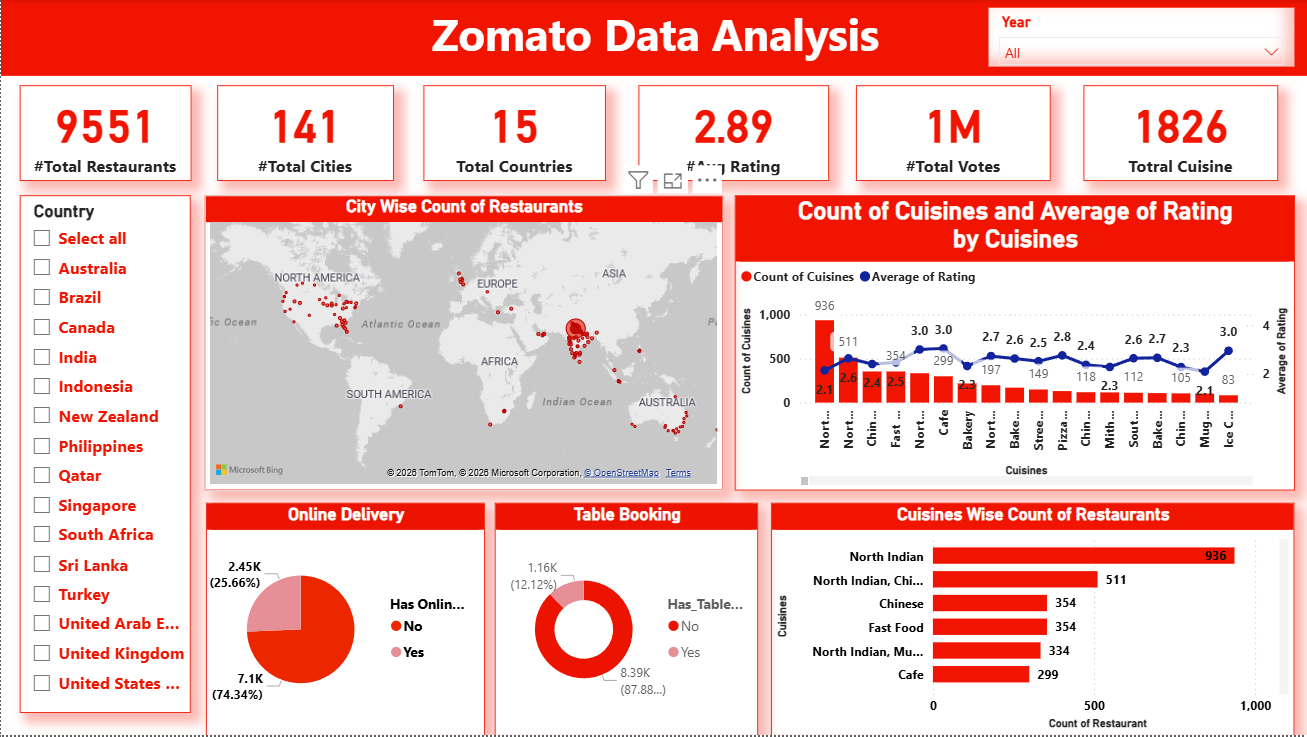

The page's visual inventory and layout, read from the dashboard file:
{"tool":"powerbi","page":{"name":"Page 1","canvas":[1280,720],"ordinal":0},"visuals":[{"type":"textbox","box":[0,0,1280.3,75.5],"z":0},{"type":"card","fields":{"Values":["restaurants.Total Restaurants"]},"box":[18.2,84.7,168,93.8],"z":1000},{"type":"card","fields":{"Values":["restaurants.Total Cities"]},"box":[211.9,84.7,172.5,93.8],"z":2000},{"type":"card","fields":{"Values":["restaurants.Total Countries"]},"box":[413.1,84.7,178.6,93.8],"z":3000},{"type":"card","fields":{"Values":["restaurants.Avg Rating"]},"box":[623.5,84.7,186.1,93.8],"z":4000},{"type":"card","fields":{"Values":["restaurants.Total Votes"]},"box":[836.9,84.7,190.7,93.8],"z":5000},{"type":"card","fields":{"Values":["restaurants.Distinct Cuisine Strings"]},"box":[1059.4,84.7,190.7,93.8],"z":6000},{"type":"slicer","fields":{"Values":["countries.country name"]},"box":[18.3,192,167.5,506.3],"z":7000},{"type":"lineStackedColumnComboChart","fields":{"Category":["restaurants.Cuisines"],"Y":["CountNonNull(restaurants.Cuisines)"],"Y2":["Avg(restaurants.Rating)"]},"box":[717.3,192.2,547.8,289.1],"z":8000},{"type":"map","title":"City Wise Count of Restaurants","fields":{"Category":["restaurants.City"],"Size":["CountNonNull(restaurants.RestaurantID)"]},"box":[199.8,192.2,507,289.1],"z":9000},{"type":"clusteredBarChart","title":"Cuisines Wise Count of Restaurants","fields":{"Y":["CountNonNull(restaurants.RestaurantID)"],"Category":["restaurants.Cuisines"]},"box":[753.3,492.6,511.8,227.8],"z":10000},{"type":"pieChart","title":"Online Delivery","fields":{"Category":["restaurants.Has_Online_delivery"],"Y":["CountNonNull(restaurants.RestaurantID)"]},"box":[200.3,492.6,273.1,227.8],"z":11000},{"type":"donutChart","title":"Table  Booking","fields":{"Y":["CountNonNull(restaurants.RestaurantID)"],"Category":["restaurants.Has_Table_booking"]},"box":[483,492.6,258,227.8],"z":12000},{"type":"slicer","fields":{"Values":["restaurants.Datekey_Opening.Variation.Date Hierarchy.Year"]},"box":[966,8.2,299.1,57.6],"z":13000}]}

Visuals, with their boxes in screenshot pixels (x1, y1, x2, y2), scaled from the page's 1280x720 canvas onto the 1307x737 screenshot:
textbox: (left=0, top=0, right=1306, bottom=77)
card - restaurants.Total Restaurants: (left=19, top=87, right=190, bottom=183)
card - restaurants.Total Cities: (left=216, top=87, right=393, bottom=183)
card - restaurants.Total Countries: (left=422, top=87, right=604, bottom=183)
card - restaurants.Avg Rating: (left=637, top=87, right=827, bottom=183)
card - restaurants.Total Votes: (left=855, top=87, right=1049, bottom=183)
card - restaurants.Distinct Cuisine Strings: (left=1082, top=87, right=1276, bottom=183)
slicer - countries.country name: (left=19, top=197, right=190, bottom=715)
lineStackedColumnComboChart - restaurants.Cuisines x CountNonNull(restaurants.Cuisines): (left=732, top=197, right=1292, bottom=493)
"City Wise Count of Restaurants" map: (left=204, top=197, right=722, bottom=493)
"Cuisines Wise Count of Restaurants" clusteredBarChart: (left=769, top=504, right=1292, bottom=736)
"Online Delivery" pieChart: (left=205, top=504, right=483, bottom=736)
"Table  Booking" donutChart: (left=493, top=504, right=757, bottom=736)
slicer - restaurants.Datekey_Opening.Variation.Date Hierarchy.Year: (left=986, top=8, right=1292, bottom=67)
